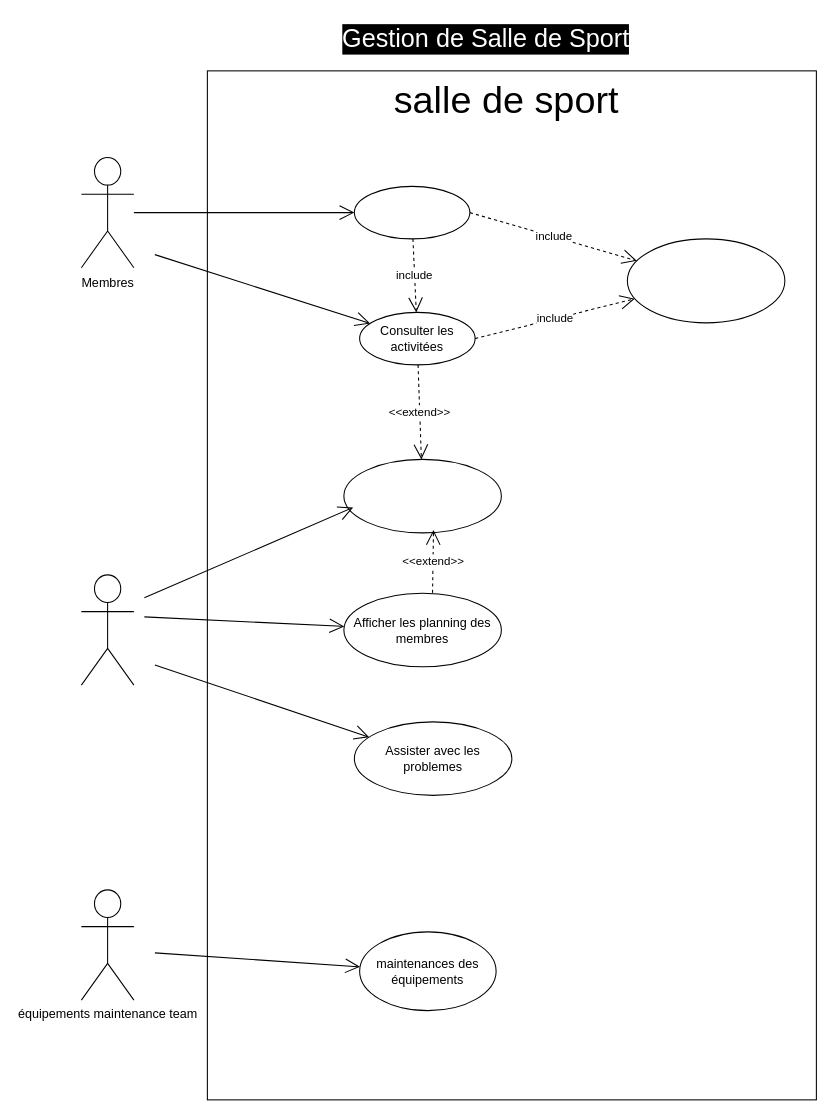
This 835x1118 diagram has some shape labels left out. The centre of each missing label's shape, as x and y in pixels:
Administrateurs: (x=107, y=629)
inscription: (x=705, y=280)
planifier les activitées ou les equipments: (x=422, y=495)
Reserver les activitées: (x=411, y=212)
